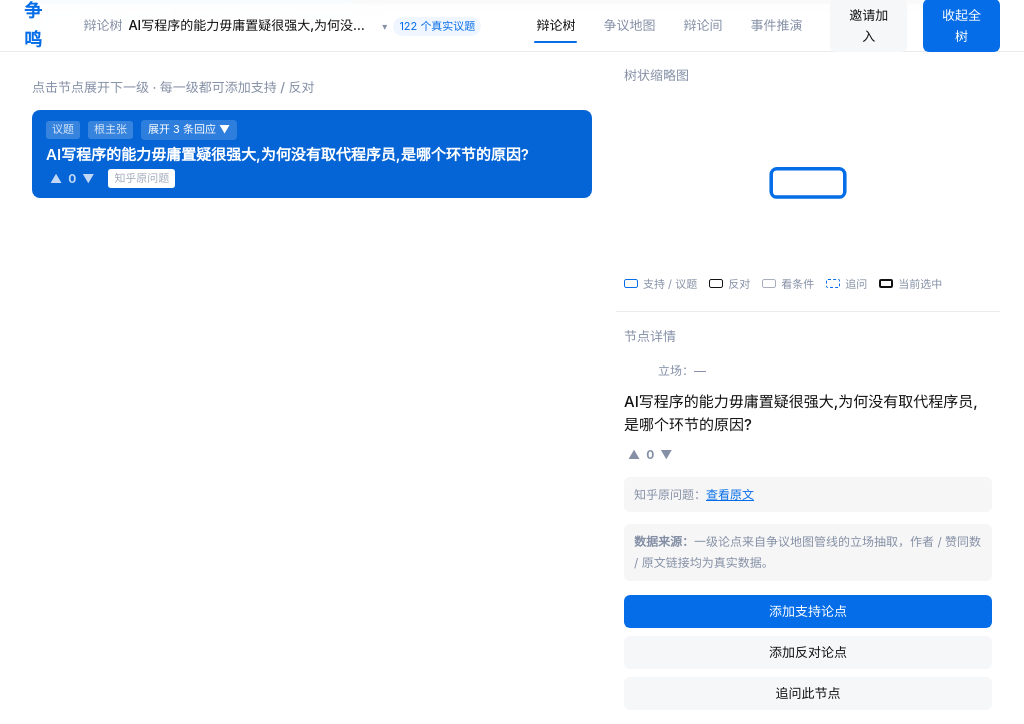
Test: 辩论树 · 参与行为 › 可以在根节点下添加看条件论点，统计条跟着变
The width and height of the screenshot is (1024, 724).
(page scrolled)
Click the button "添加反对论点" at (808, 652), box 624,636 -> 992,669
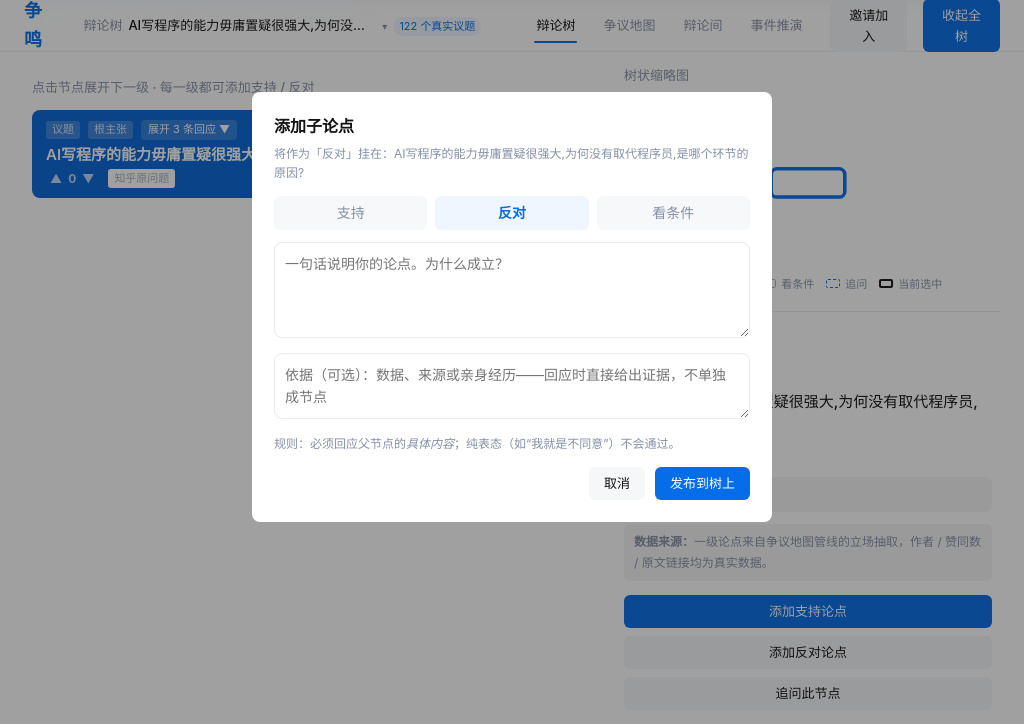
Click the button "看条件" at (673, 213), box 597,196 -> 750,230
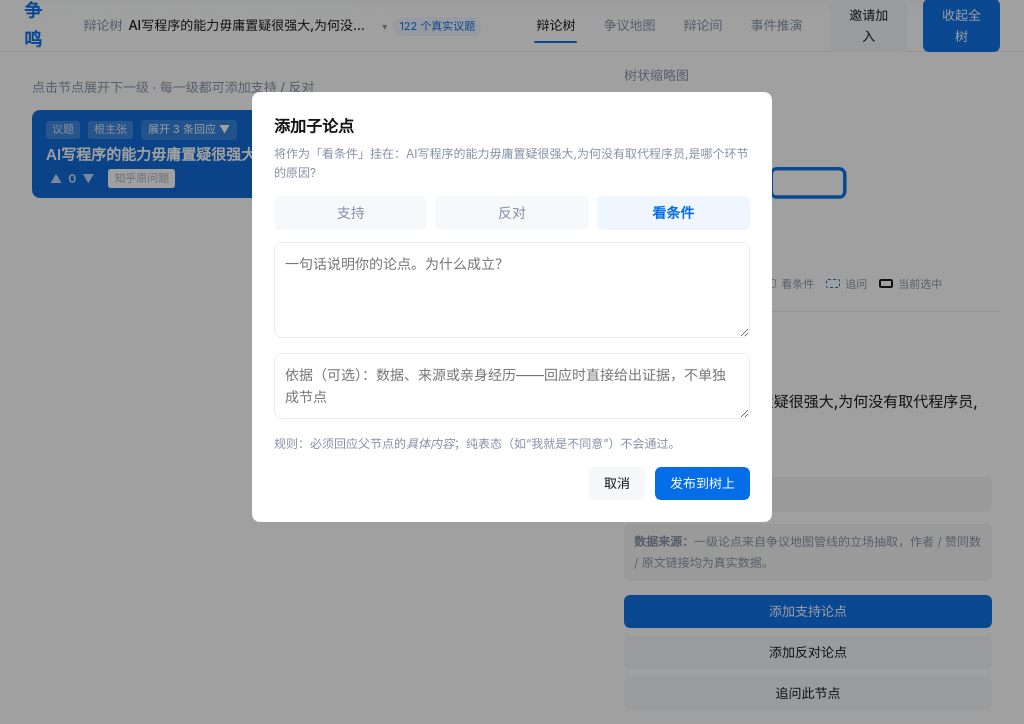
Type "先确认岗位与住房条件再决定" into the text box named "论点内容" at (512, 290), box 274,242 -> 750,338
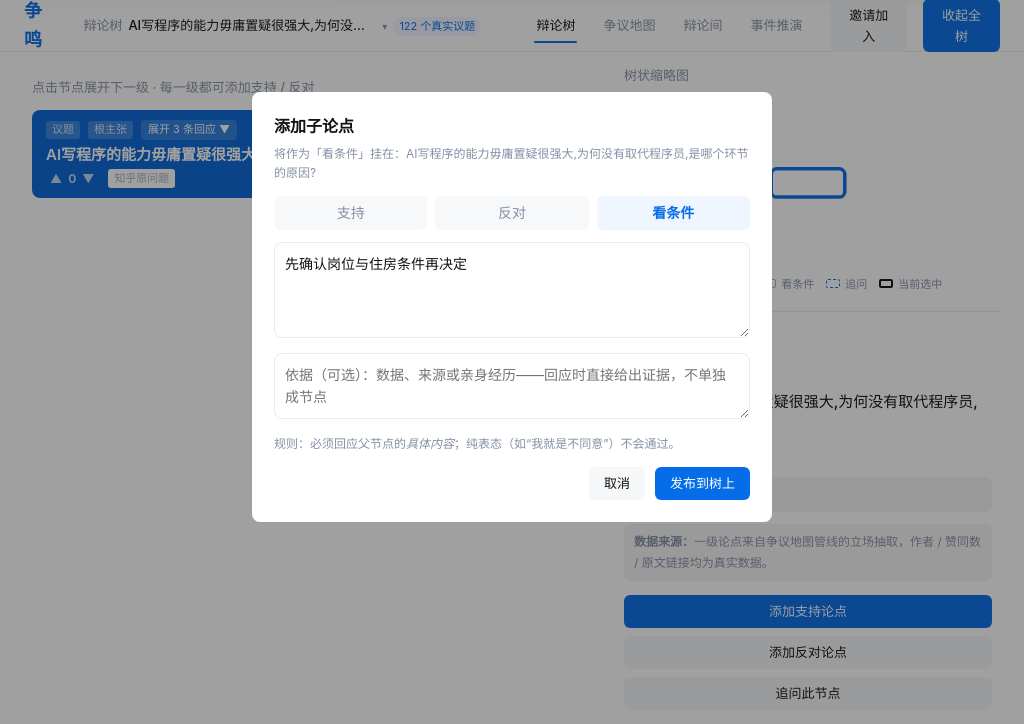
Type "正式 offer 尚未写明岗位" into the text box named "论点依据" at (512, 386), box 274,352 -> 750,419
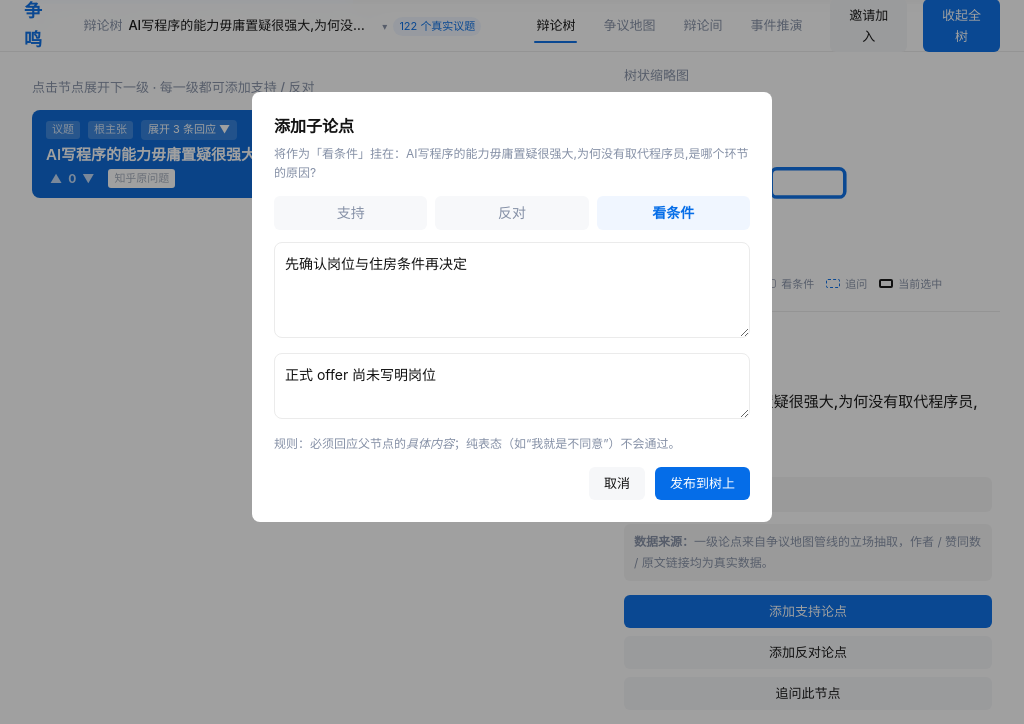
Click the button "发布到树上" at (702, 483), box 655,467 -> 750,500
(page scrolled)
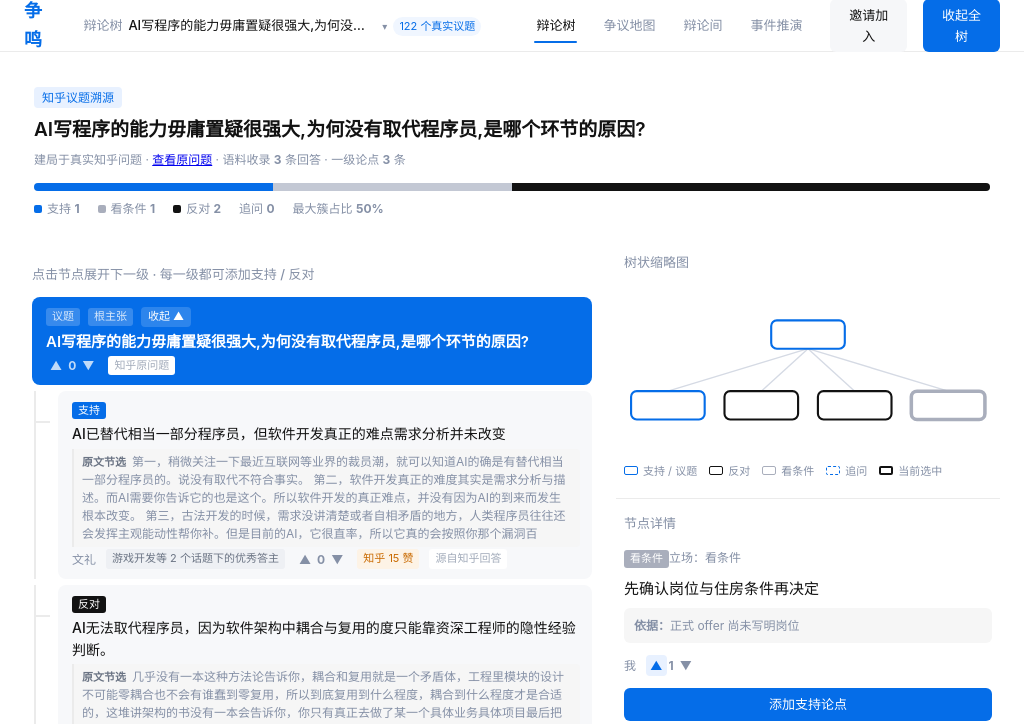
Expected: the element named "立场分布" reads "支持 1 看条件 1 反对 2 追问 0 最大簇占比 50%", 34,183 -> 990,218
